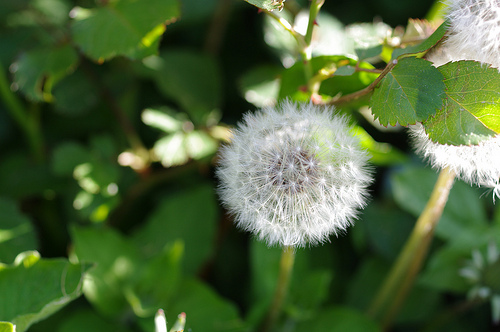dandelion white: (212, 98, 376, 246)
